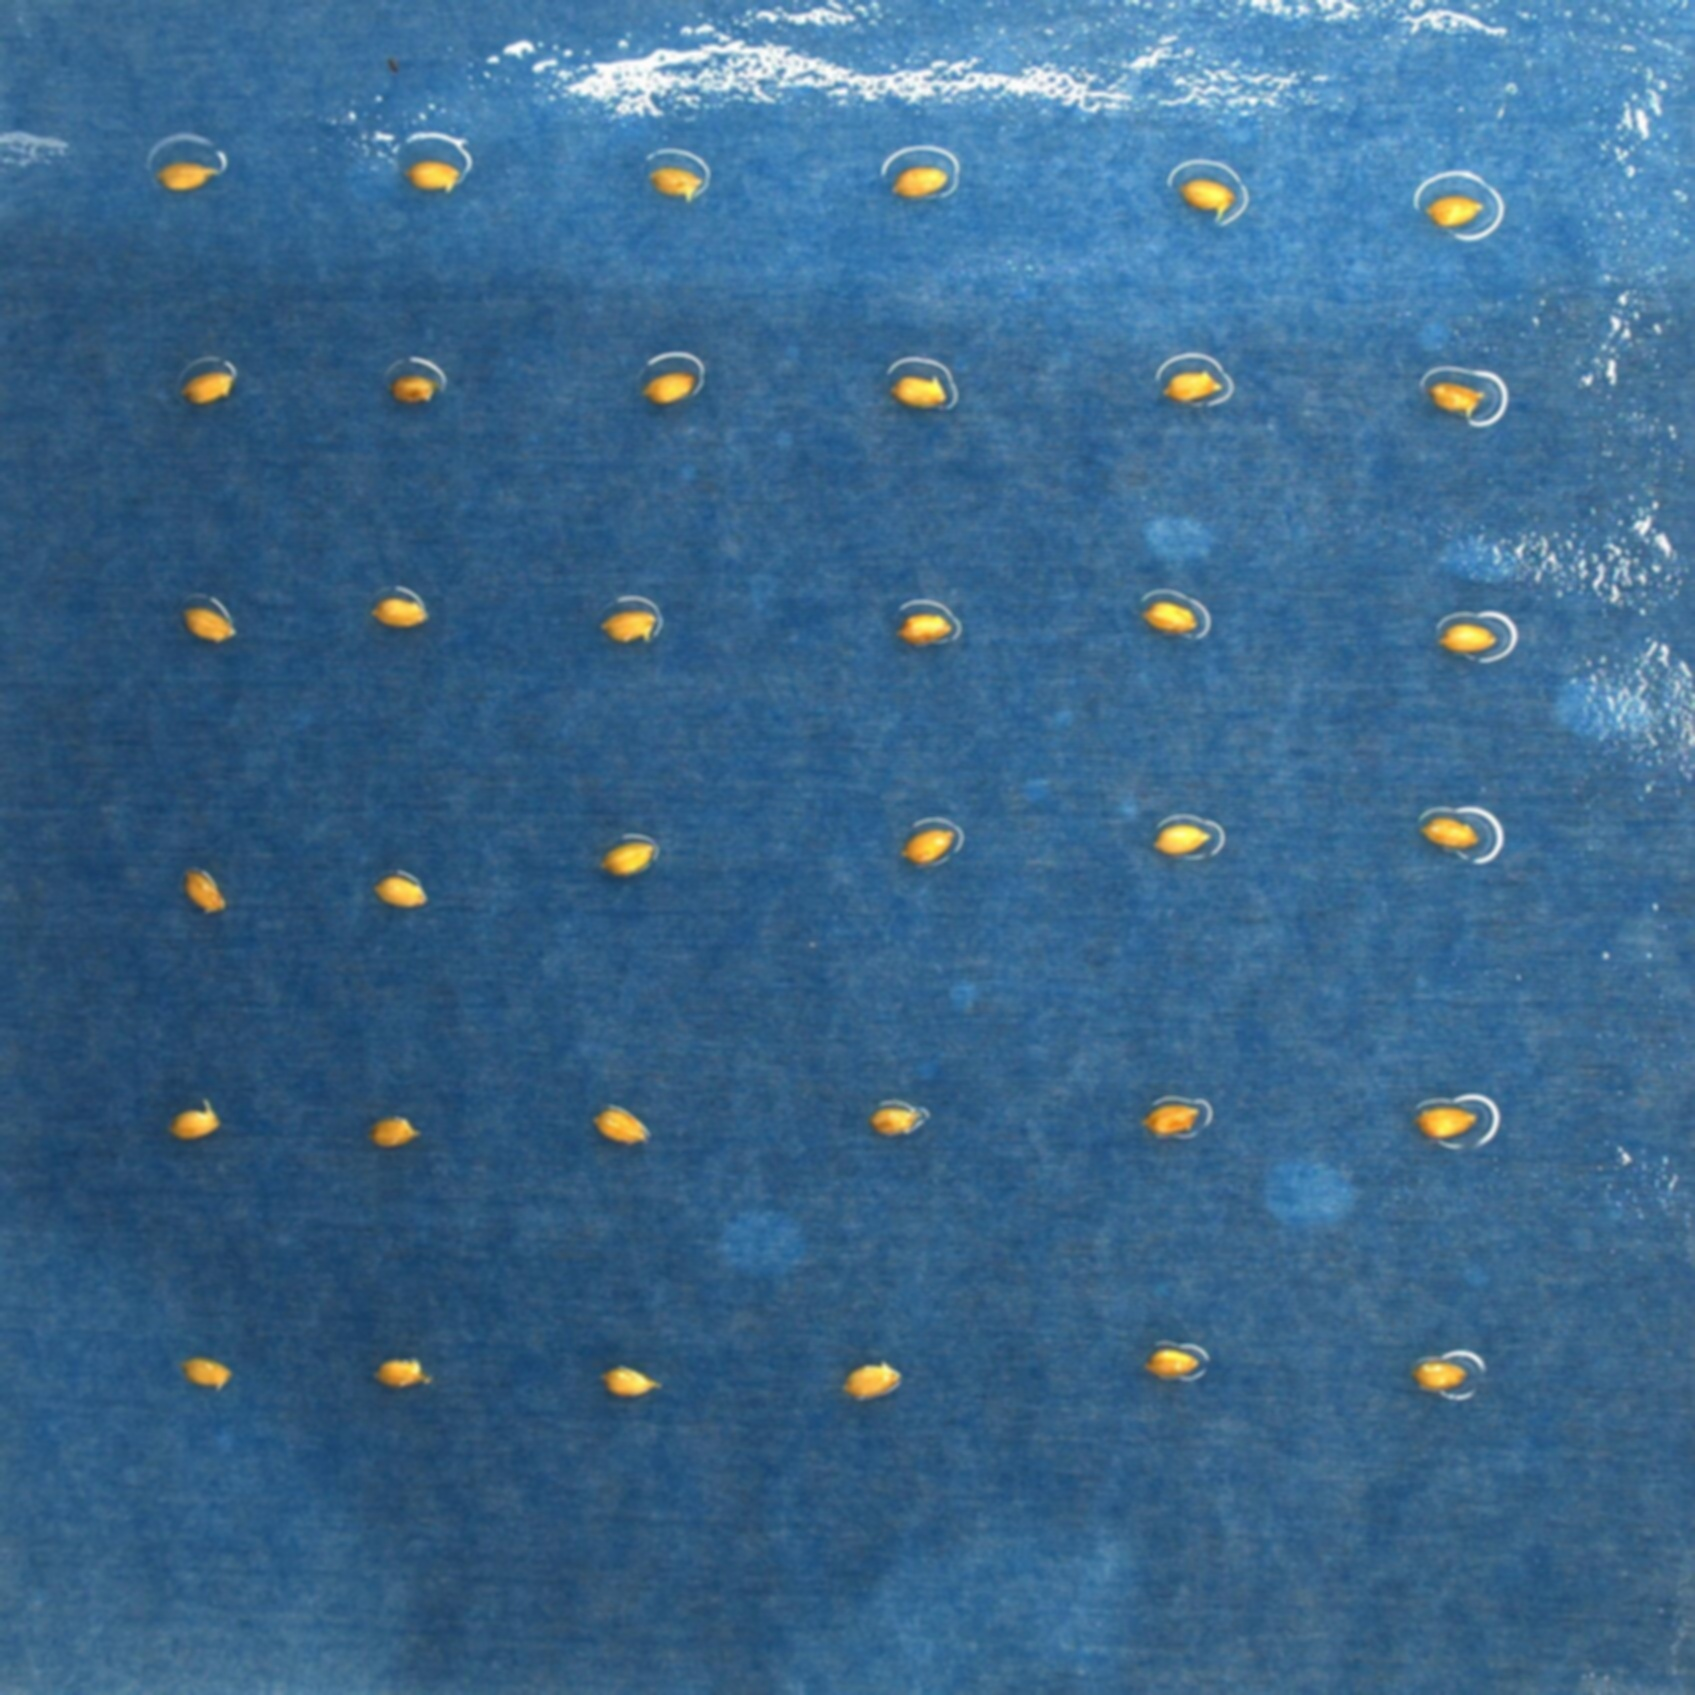not sprout: (585, 1097, 653, 1149), (1138, 1093, 1197, 1138), (1142, 1344, 1208, 1385), (1417, 813, 1484, 852), (1428, 380, 1492, 421), (840, 1363, 905, 1402), (897, 826, 961, 865), (601, 1360, 664, 1399), (601, 837, 660, 877), (865, 1094, 928, 1132), (1184, 179, 1236, 224), (1406, 1357, 1473, 1391), (1159, 366, 1231, 397), (168, 1097, 220, 1139), (1423, 194, 1489, 227), (643, 166, 705, 200), (405, 157, 464, 192), (882, 374, 945, 407), (594, 613, 658, 646), (368, 1358, 432, 1391), (897, 613, 958, 647), (183, 868, 224, 917), (371, 871, 425, 906), (373, 594, 425, 630), (1444, 622, 1504, 653), (1423, 1107, 1479, 1139), (185, 604, 234, 640), (183, 1354, 234, 1388), (1141, 605, 1200, 635), (888, 171, 951, 197), (179, 371, 234, 400), (1149, 826, 1208, 854), (633, 376, 695, 400), (158, 163, 224, 186), (366, 1111, 414, 1141), (394, 376, 433, 405)
